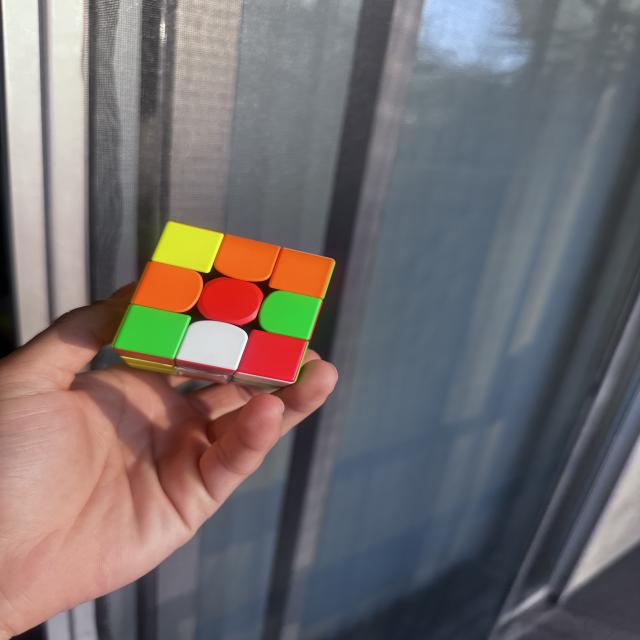sticker: (110, 304, 192, 367), (173, 320, 251, 382), (233, 330, 310, 388), (131, 260, 204, 314), (151, 220, 224, 274), (268, 246, 337, 300), (213, 232, 280, 282), (258, 290, 325, 340), (197, 276, 264, 326)
